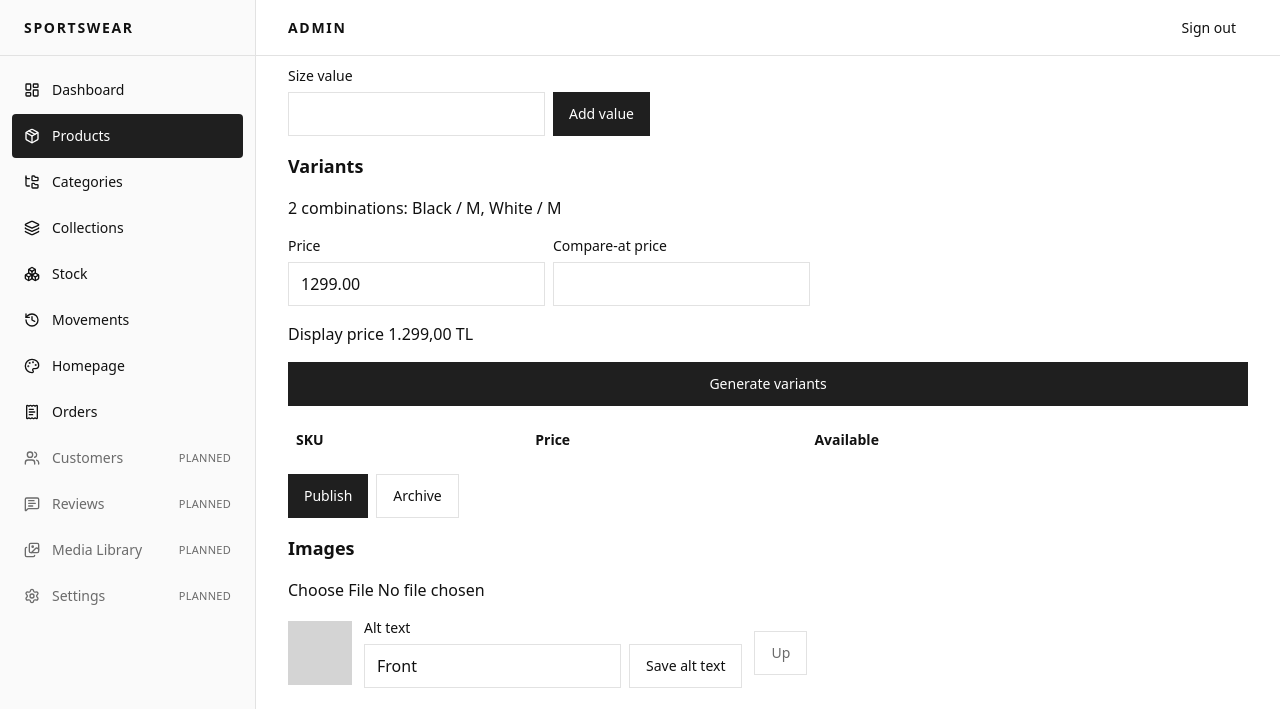
Scenario: catalogue administration › saves edited image alt text with the loaded product version
(page scrolled)
Replace the text in the field labelled "Alt text" with "Studio front": point(492, 666) x1=364 y1=644 x2=621 y2=688
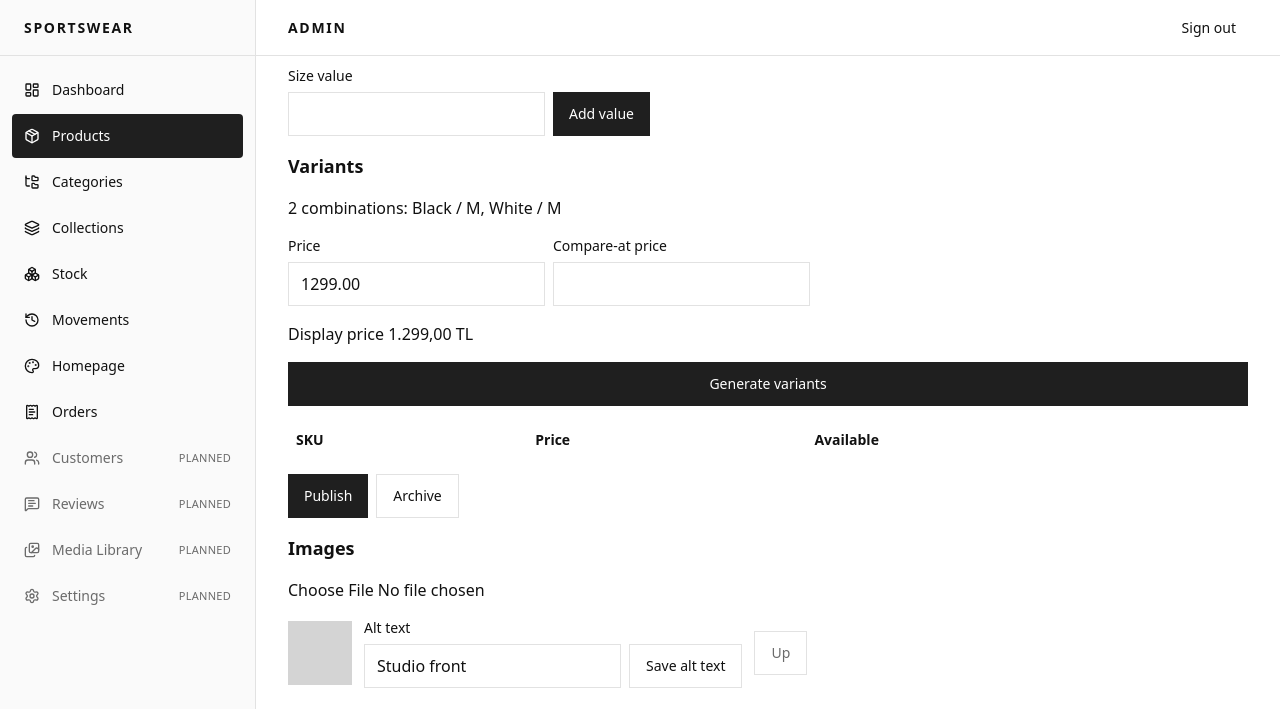
Click the button "Save alt text": point(686, 666) x1=629 y1=644 x2=742 y2=688
(page scrolled)
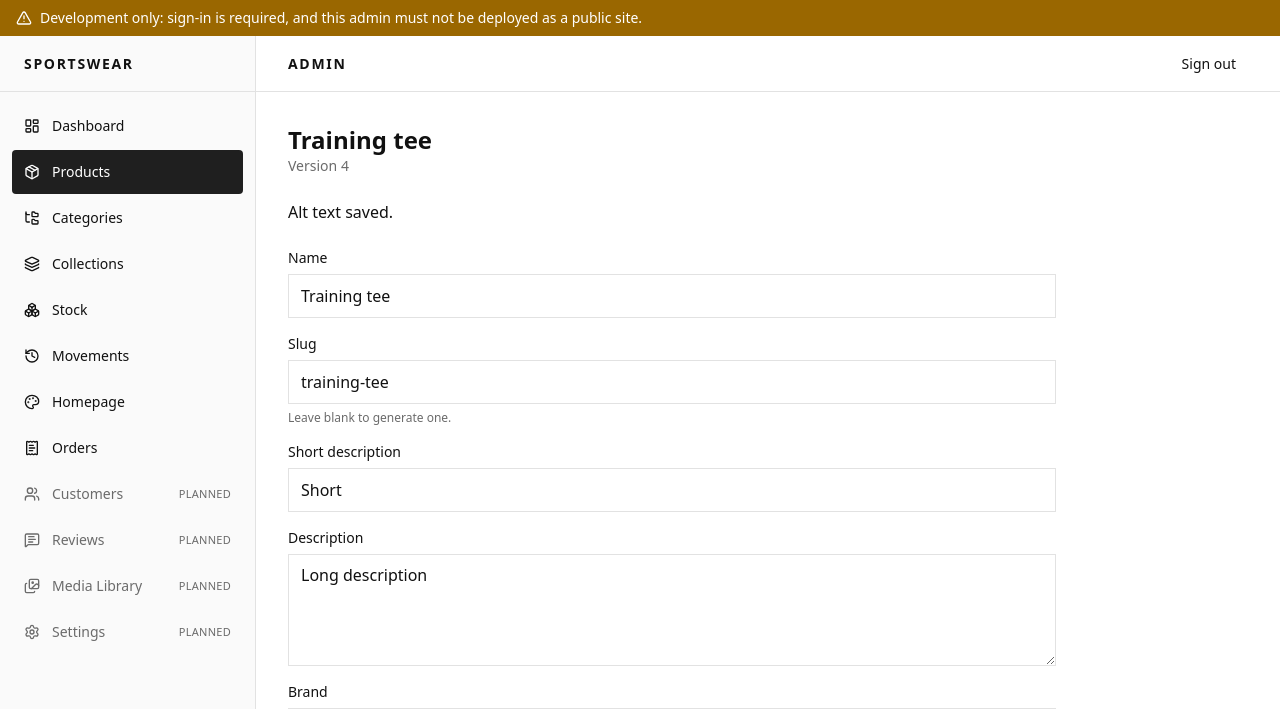
Result: the message reads "Alt text saved." at x1=288 y1=201 x2=393 y2=223
